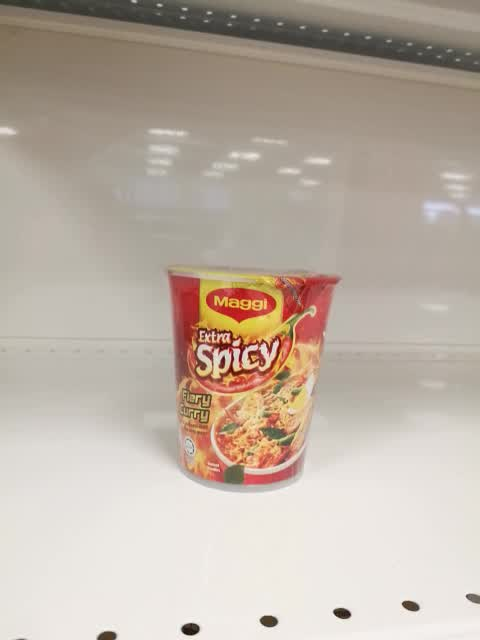maggi: (161, 263, 342, 495)
